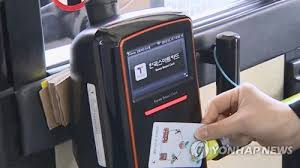terminal: (67, 9, 211, 168)
